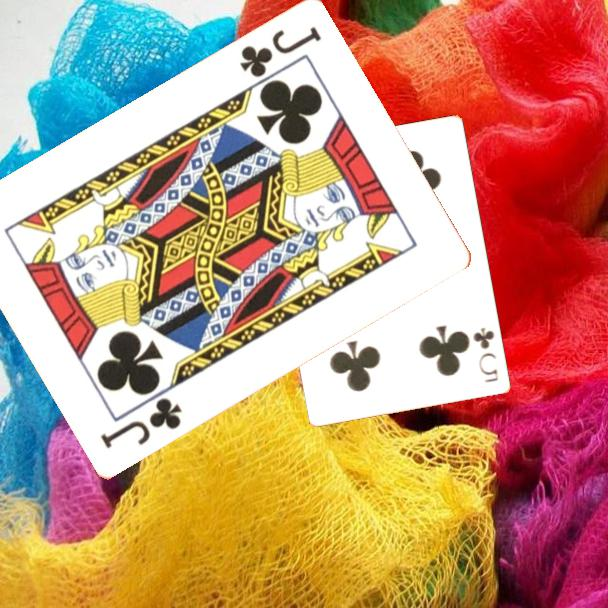c05: (470, 324, 502, 385)
c11: (236, 22, 325, 80), (97, 393, 186, 451)
